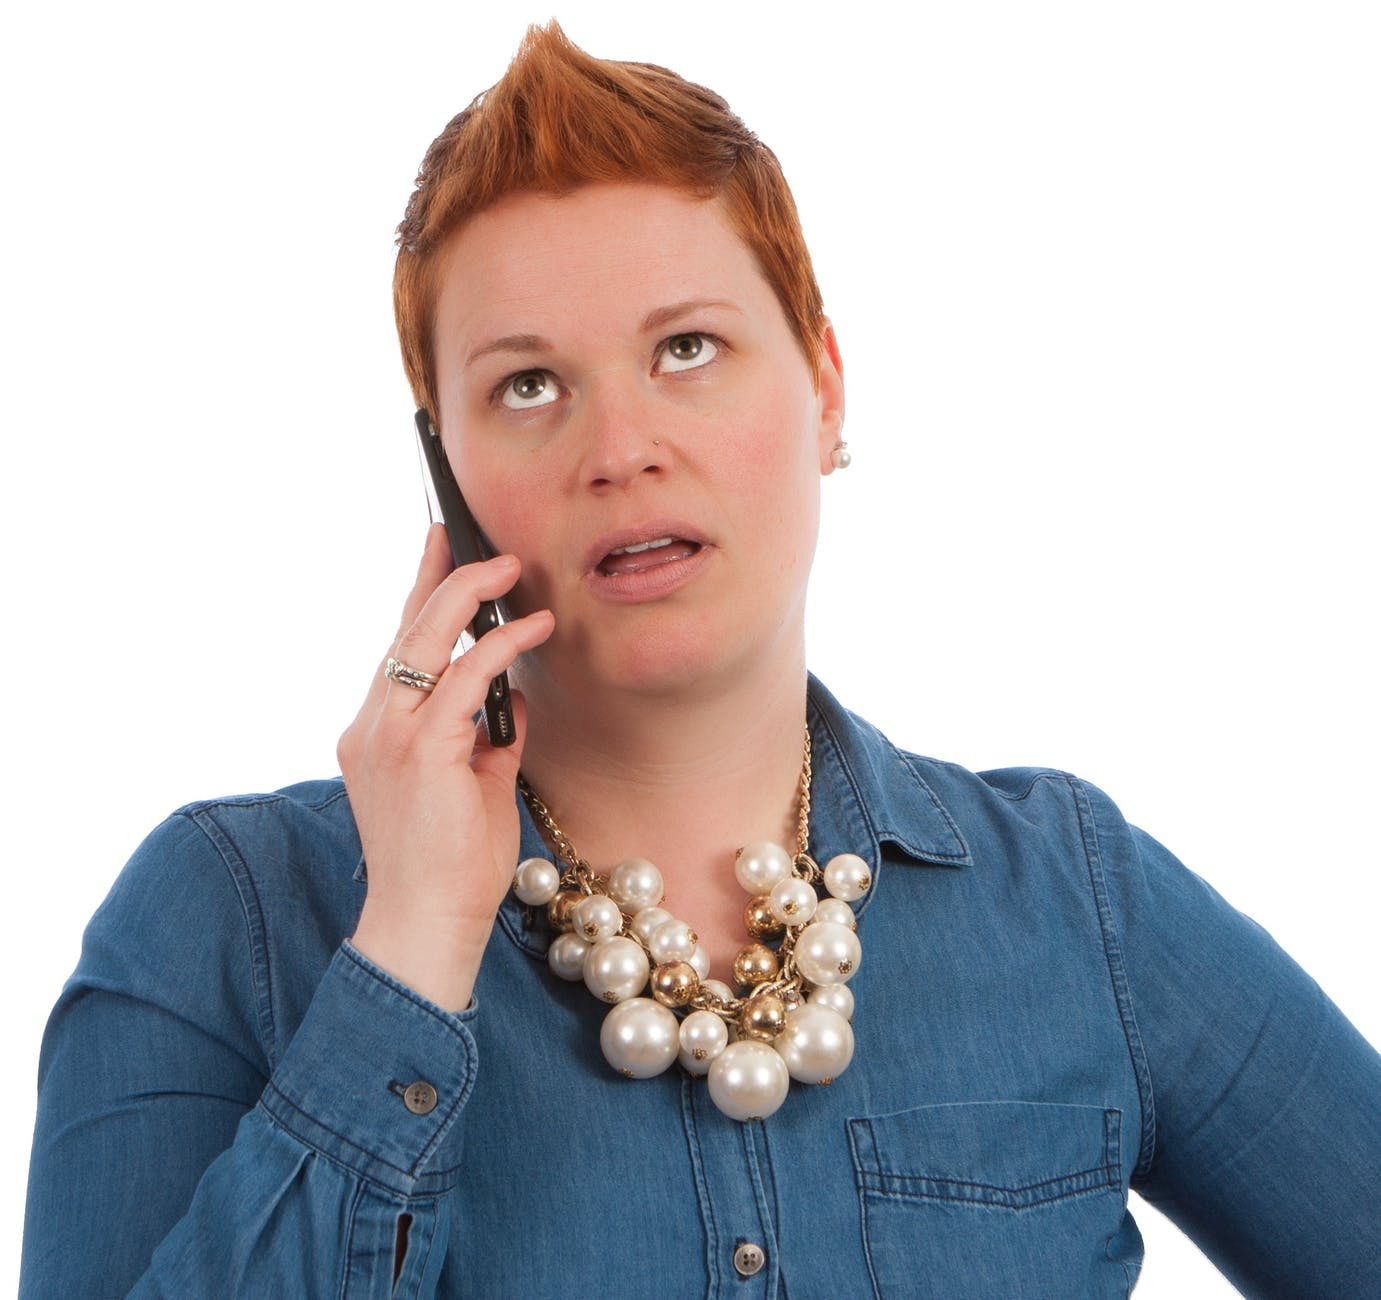phone: (413, 406, 524, 758)
talk: (331, 287, 827, 915)
